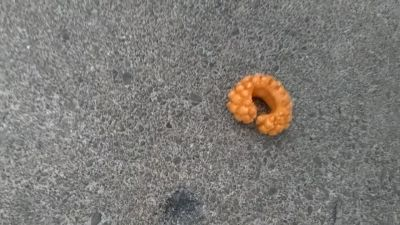eggs: (224, 74, 295, 135)
